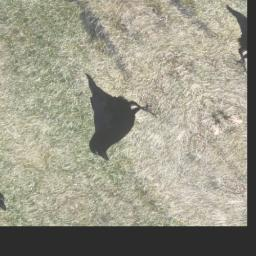Crow: (43, 62, 171, 168)
